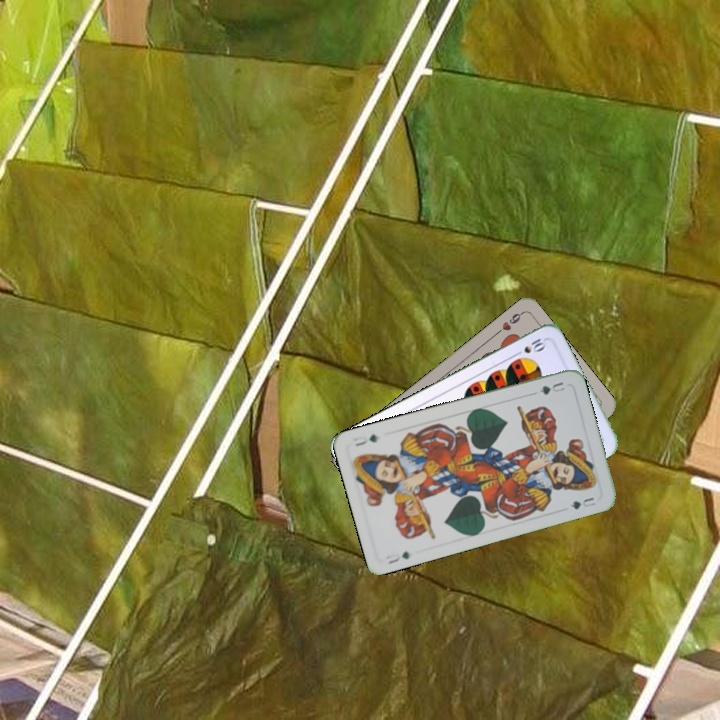GU: (529, 377, 568, 398), (382, 547, 413, 566)
H9: (491, 308, 525, 338)
S10: (510, 334, 549, 359)
